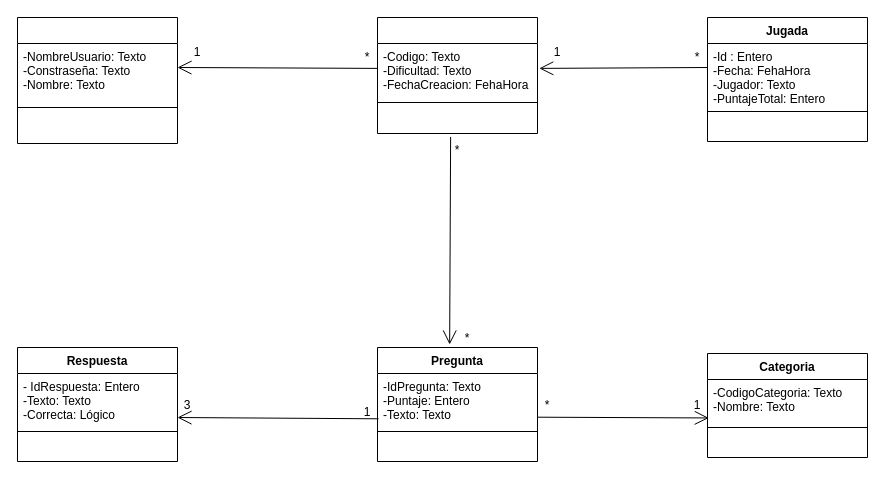
The diagram is 885 pixels wide and 482 high, and some of its shapes have lost their labels. Here are the shapes that lost their labels. From the top down, the box of each, then its label:
(16, 16, 178, 144): Administrador
(376, 16, 538, 134): Juego
